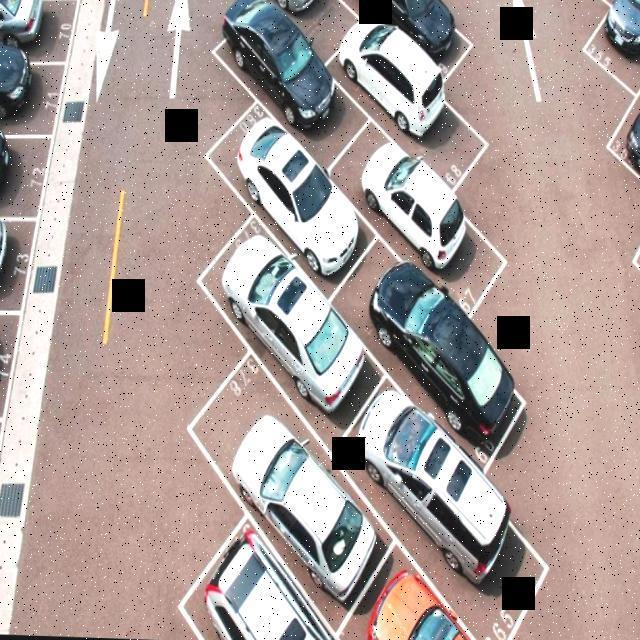car: (346, 377, 544, 611), (214, 395, 378, 626), (342, 240, 524, 442), (202, 223, 372, 424), (206, 89, 366, 286), (342, 124, 494, 288), (206, 0, 349, 153), (343, 15, 472, 170), (195, 530, 343, 640), (362, 557, 506, 640), (337, 0, 466, 56), (214, 0, 339, 42), (0, 59, 66, 132), (592, 0, 640, 93), (0, 138, 54, 211), (617, 42, 640, 206), (1, 0, 76, 49), (0, 211, 27, 321)
